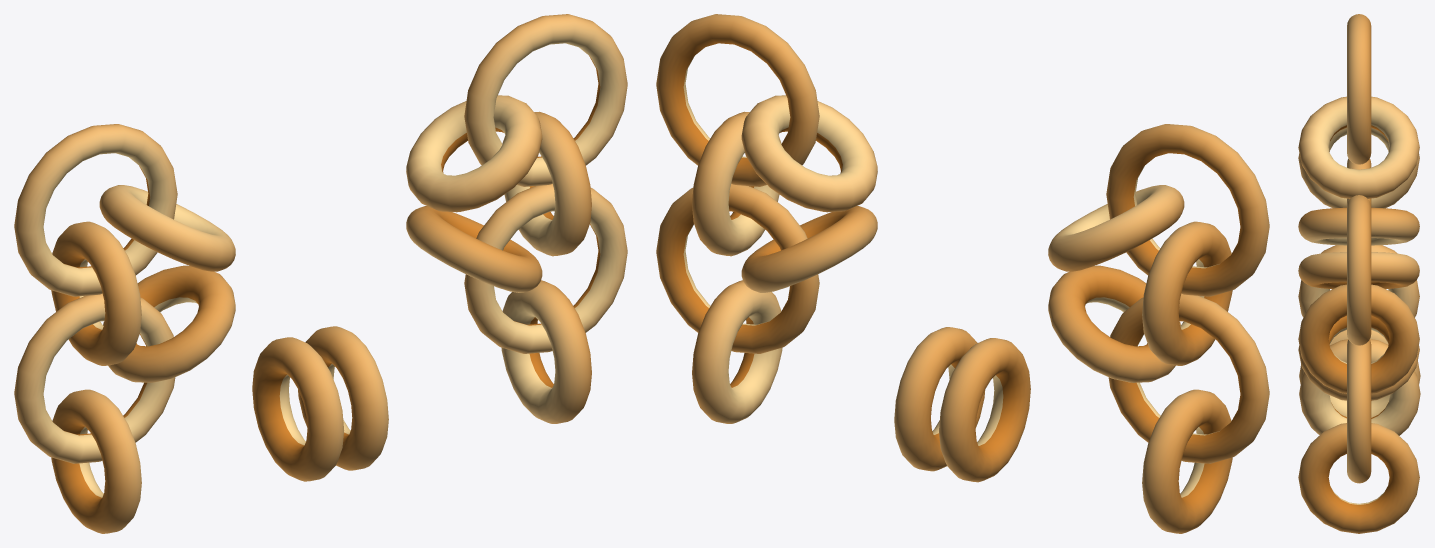
File: hashigo_m_b.fbx
3 renders of one model, left to right at view 1: azimuth 30°, elevation 25°; view 2: azimuth 150°, elevation 25°; view 3: azimuth 270°, elevation 25°, orthographic. The views are drawn at different scales.
Visible parts, largest first — view 1: m3; view 2: m3; view 3: m3.
Boxes of the visible parts, bbox=[...] form: m3: bbox=[14, 14, 627, 533]; m3: bbox=[656, 14, 1269, 533]; m3: bbox=[1298, 14, 1420, 533].
Size of the model in its own units: 19.09 by 12.02 by 4.02.
